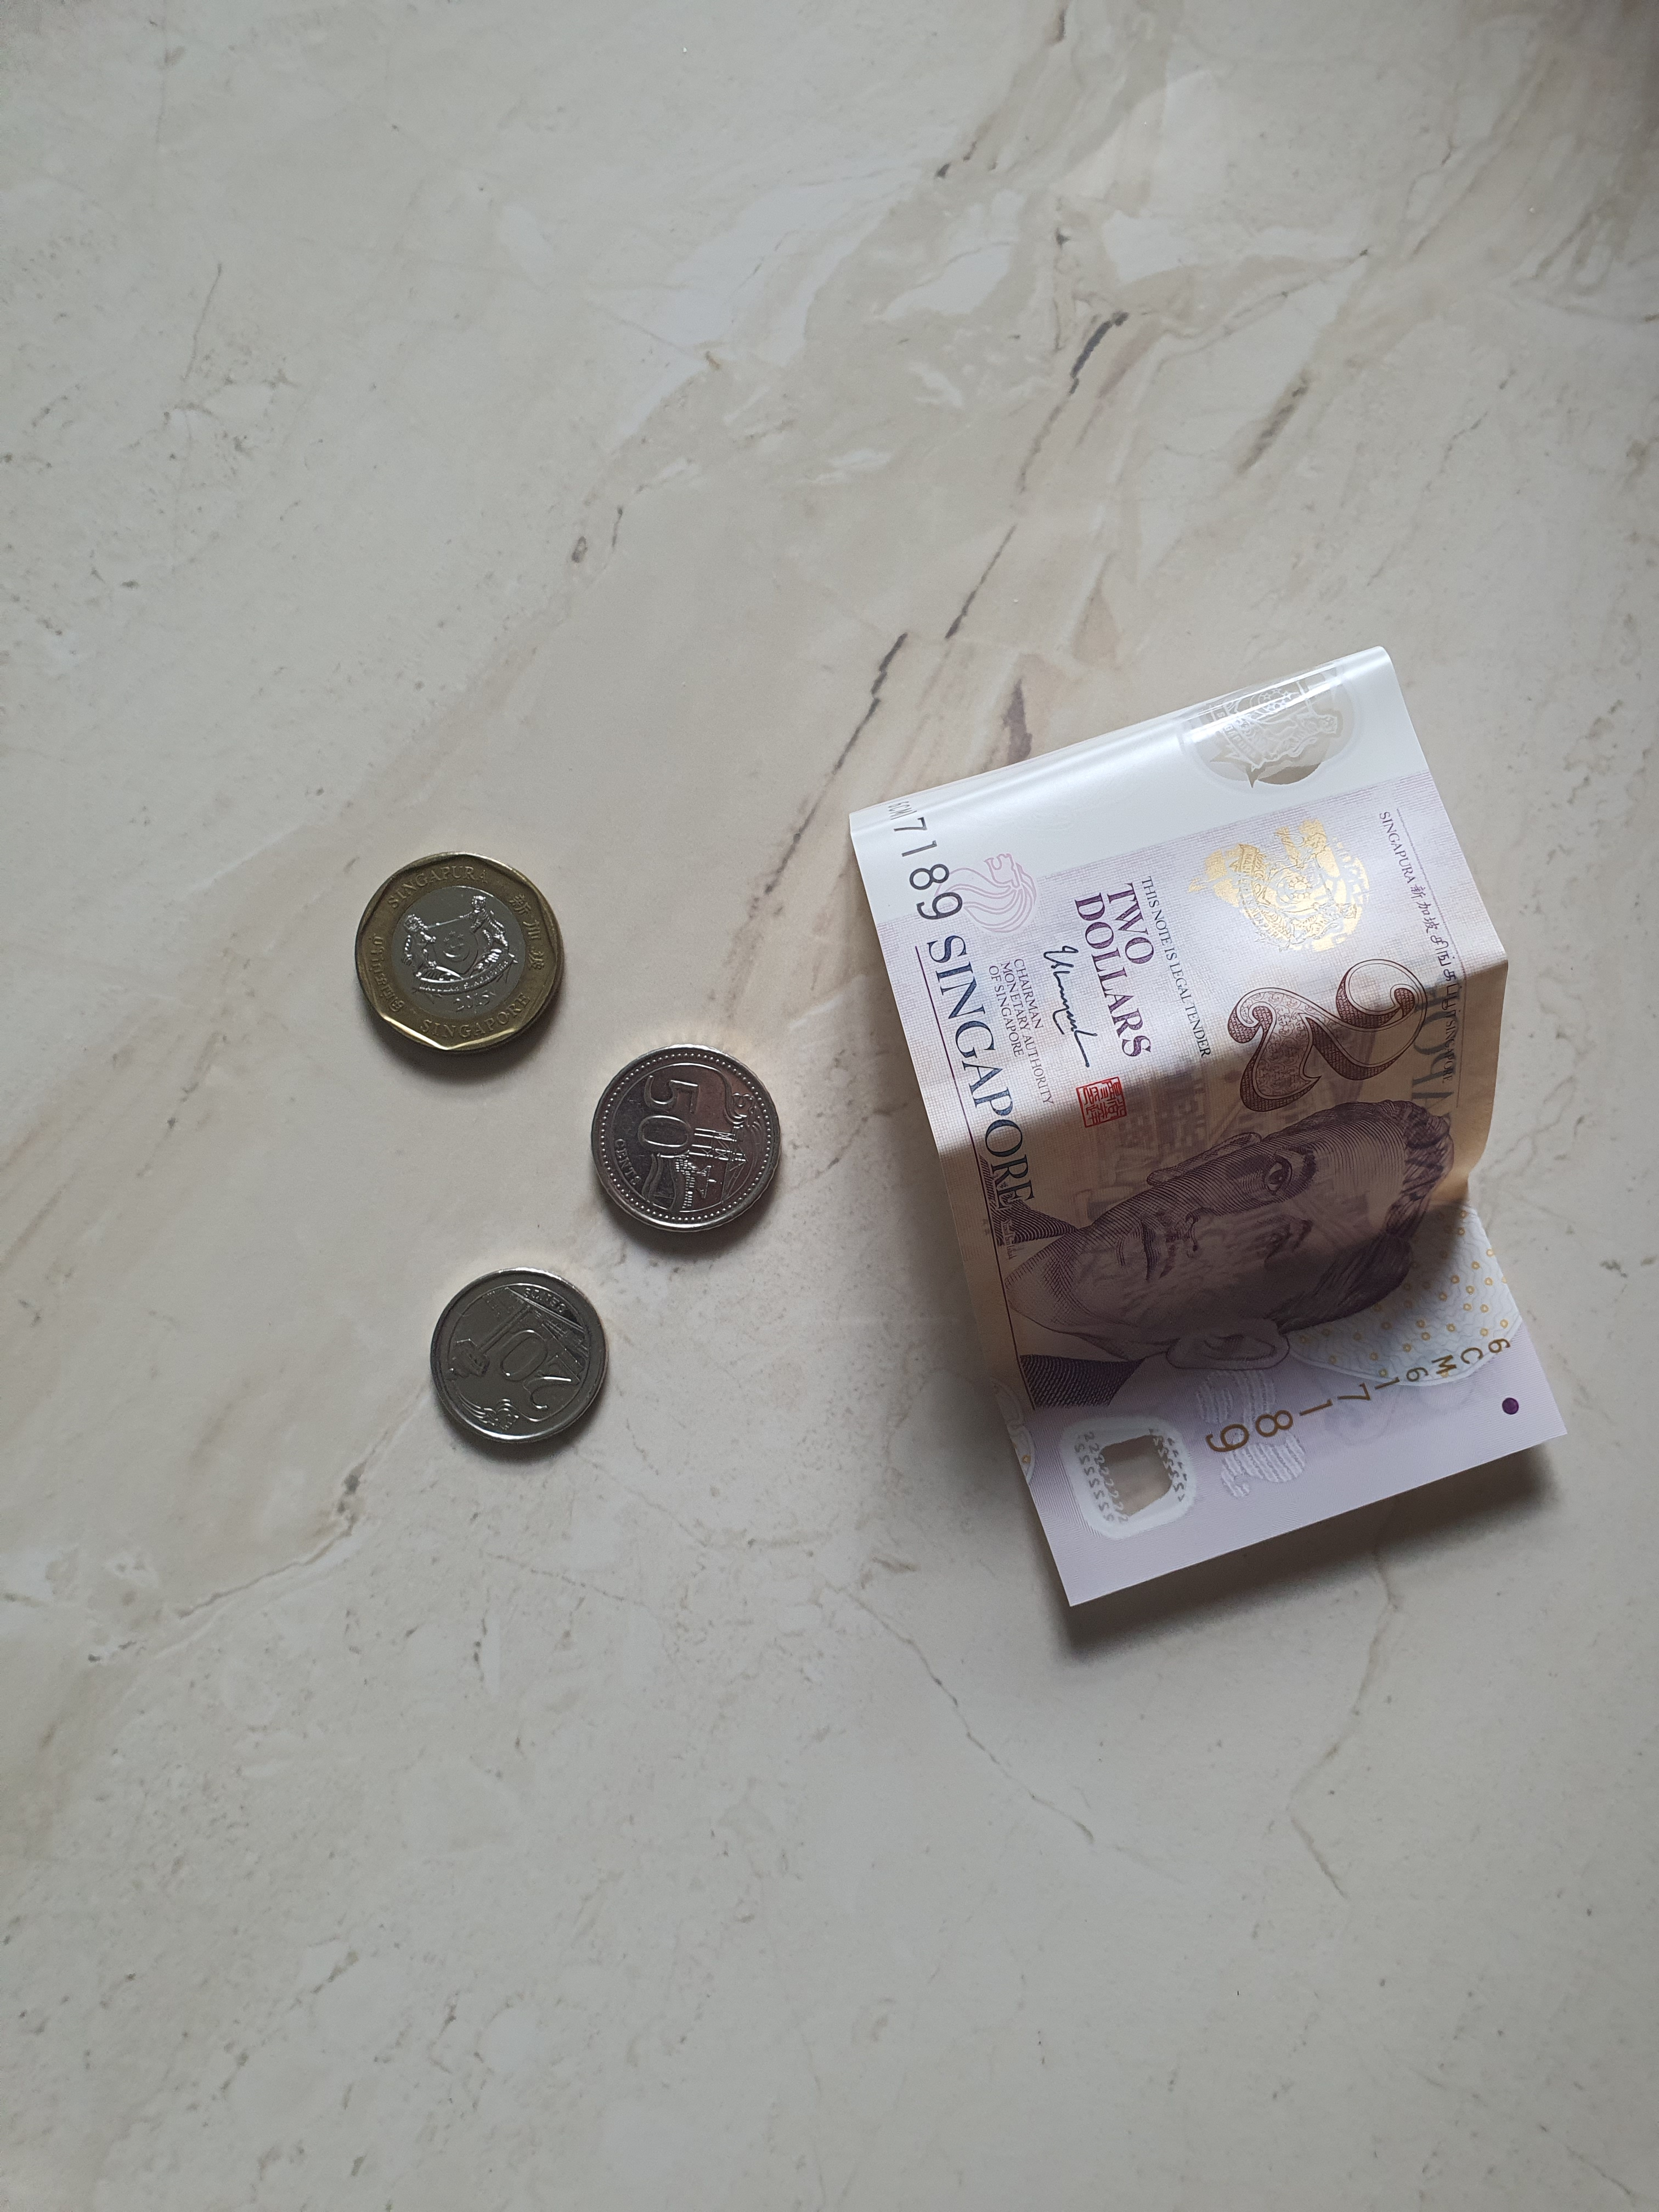$1: (354, 852, 565, 1057)
$2: (847, 644, 1565, 1609)
20c: (430, 1266, 612, 1444)
50c: (589, 1042, 784, 1235)
